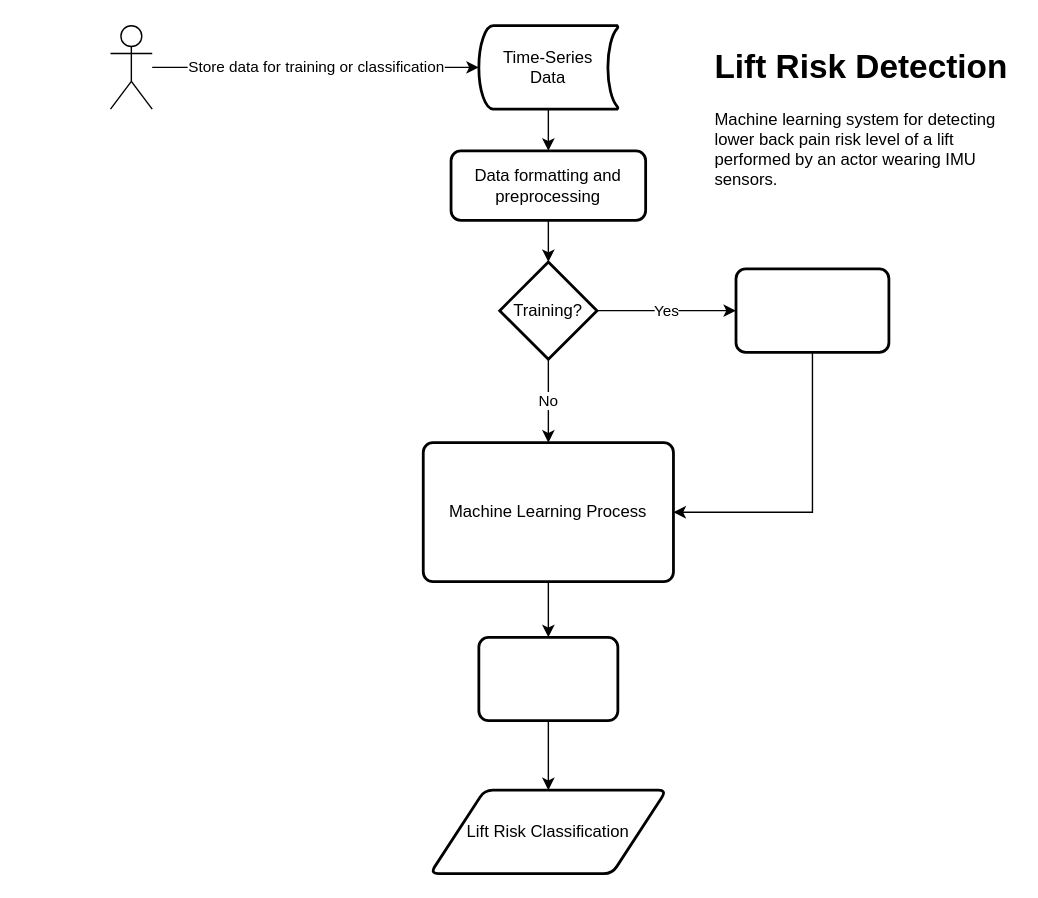
This 1038x898 diagram has some shape labels left out. The shapes that lost their labels are listed below. From the top down, each one's centre as x and y in pixels, then its label:
At [130,66]: "Actor with Wearable Sensors".
At [812,310]: "Split into train/test sets".
At [548,678]: "Convert output probabilities to classification".
